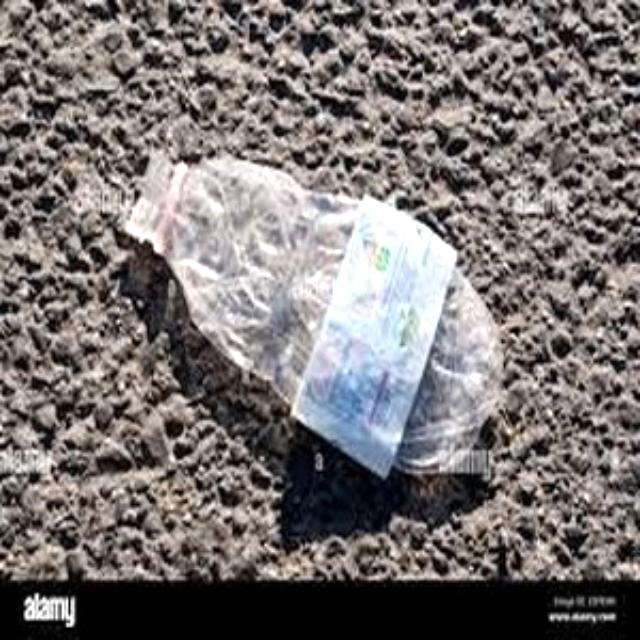Plastic: (126, 145, 502, 475)
